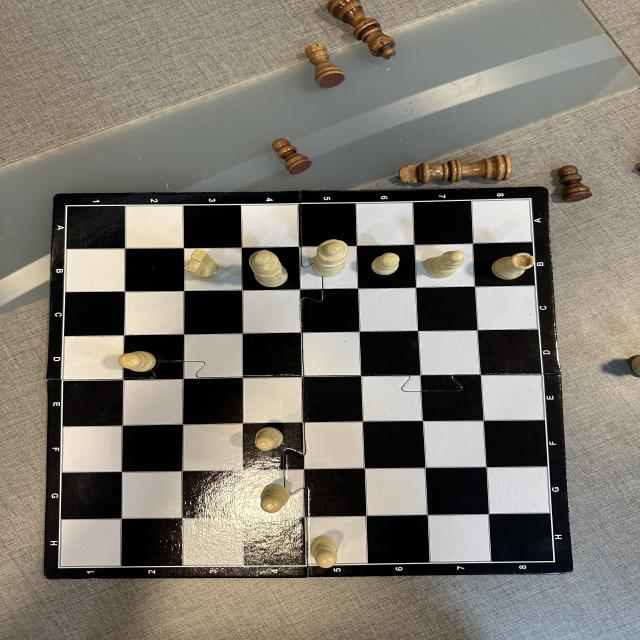Black-King: (399, 154, 511, 185)
Black-Pawn: (272, 138, 312, 174), (557, 165, 593, 202)
Black-Queen: (326, 0, 396, 59)
Black-Rook: (305, 44, 345, 88)
White-Bishop: (426, 250, 465, 278)
White-King: (249, 249, 289, 287)
White-Knight: (185, 250, 222, 280)
White-Pawn: (311, 535, 338, 568), (260, 485, 291, 512), (255, 426, 285, 452), (120, 351, 156, 372), (372, 253, 401, 275)
White-Queen: (313, 239, 349, 277)
White-Rook: (492, 252, 535, 279)
